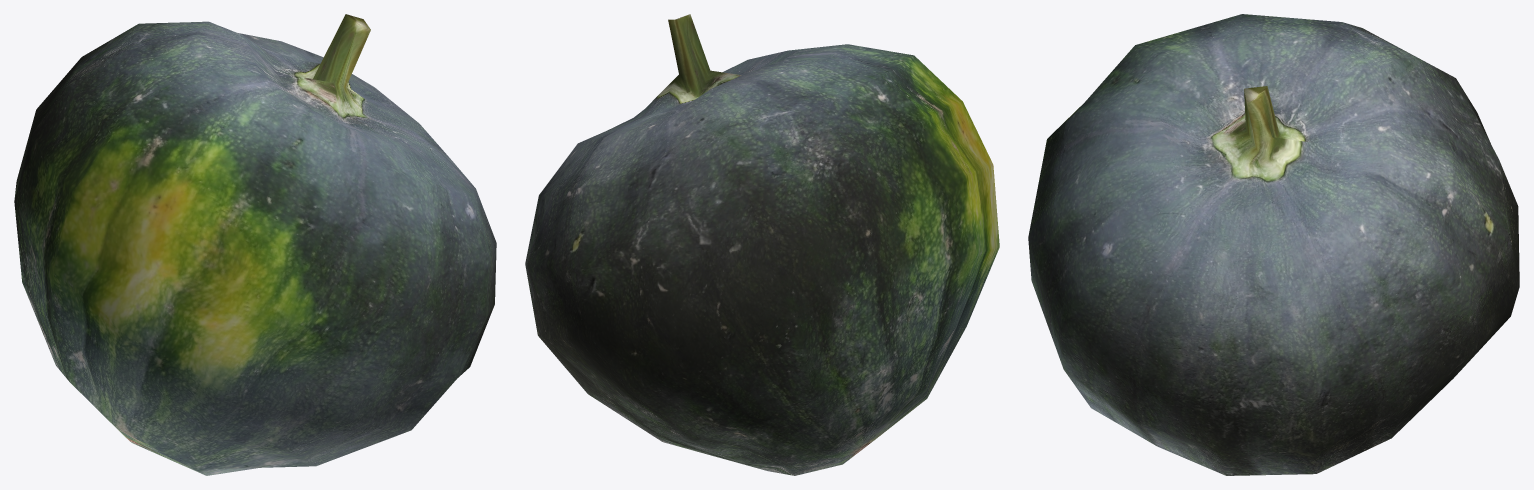
File: A56_Pumpkin_low.fbx
3 views of the same model, side by side, from view 1: azimuth 30°, elevation 25°; view 2: azimuth 150°, elevation 25°; view 3: azimuth 270°, elevation 25° (orthographic). The views are drawn at different scales.
Visible parts, largest first — view 1: A56_Pumpkin_low; view 2: A56_Pumpkin_low; view 3: A56_Pumpkin_low.
Part boxes in pixels (left/top/right/bottom): A56_Pumpkin_low: left=14, top=14, right=496, bottom=475; A56_Pumpkin_low: left=525, top=14, right=999, bottom=475; A56_Pumpkin_low: left=1028, top=14, right=1519, bottom=475.
Bounding box in the file's own units: 22.23 × 22.91 × 21.14.
Materials: 1 (1 with a texture image).
